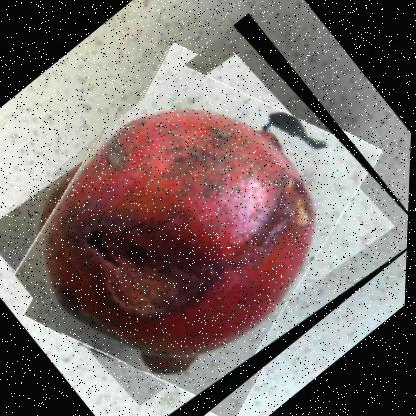pomegranate_rotten: (0, 12, 415, 415)
